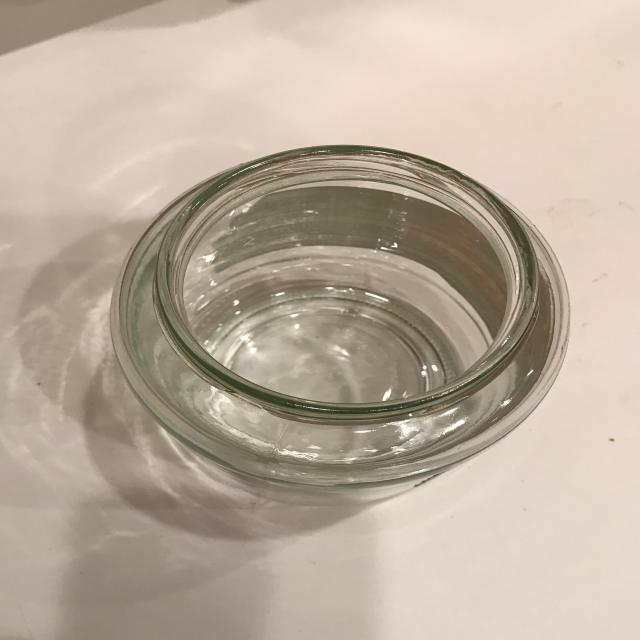glass: (105, 143, 574, 508)
